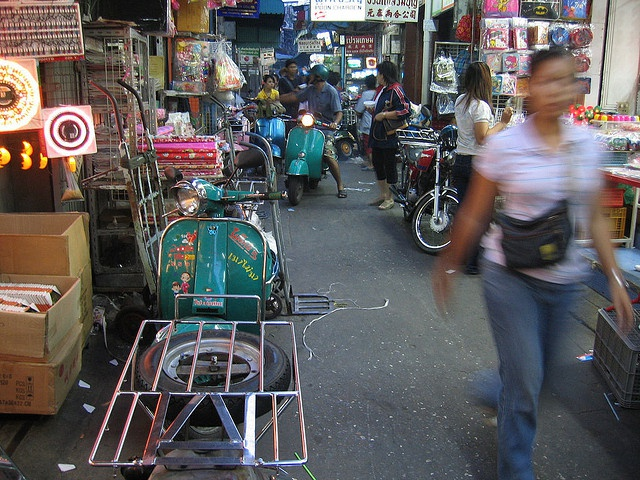non-vehicle: (390, 137, 458, 254), (282, 114, 333, 201)
